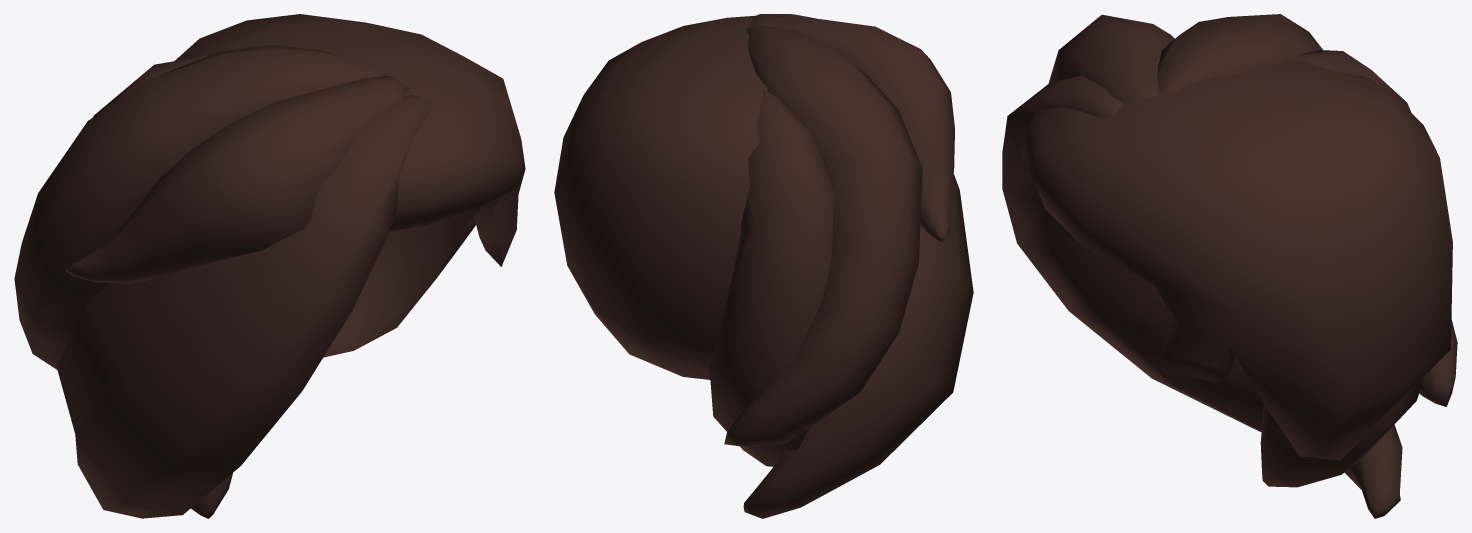
The model's file is Hair_021.glb.
The picture shows the model from 3 angles, left to right: view 1: azimuth 30°, elevation 25°; view 2: azimuth 150°, elevation 25°; view 3: azimuth 270°, elevation 25°; orthographic projection. The views are drawn at different scales.
Visible parts, largest first — view 1: Hair_021; view 2: Hair_021; view 3: Hair_021.
Boxes of the visible parts, left/top/right/bottom form: Hair_021: left=14, top=14, right=525, bottom=518; Hair_021: left=554, top=14, right=973, bottom=518; Hair_021: left=1002, top=14, right=1457, bottom=518.
Bounding box in the file's own units: 0.5269 × 0.5684 × 0.4729.
1 material, 1 textured.
